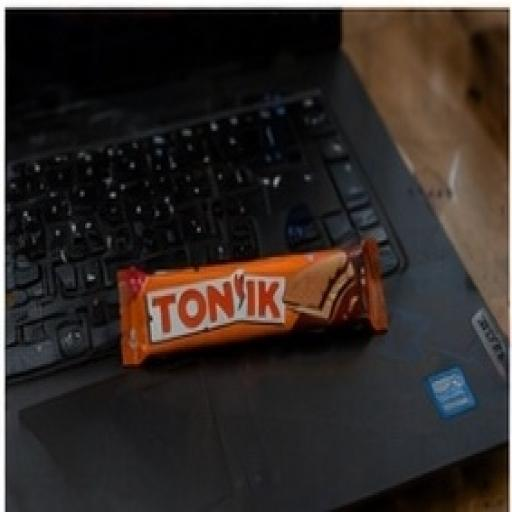tonik: (84, 166, 406, 412)
